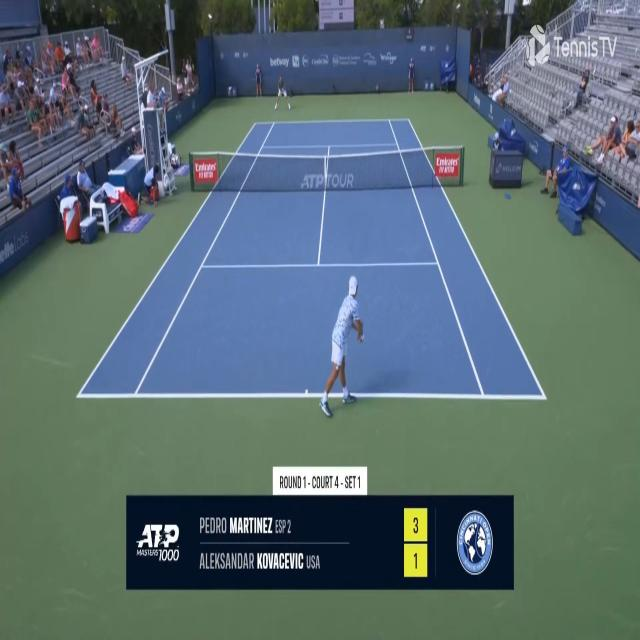tennis-player: (318, 271, 368, 422), (273, 74, 292, 112)
